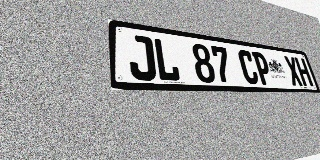7: (209, 45, 234, 84)
8: (191, 43, 217, 83)
C: (237, 49, 260, 84)
H: (294, 57, 314, 86)
J: (127, 34, 157, 81)
L: (153, 38, 181, 82)
P: (251, 51, 274, 85)
X: (283, 56, 304, 86)
